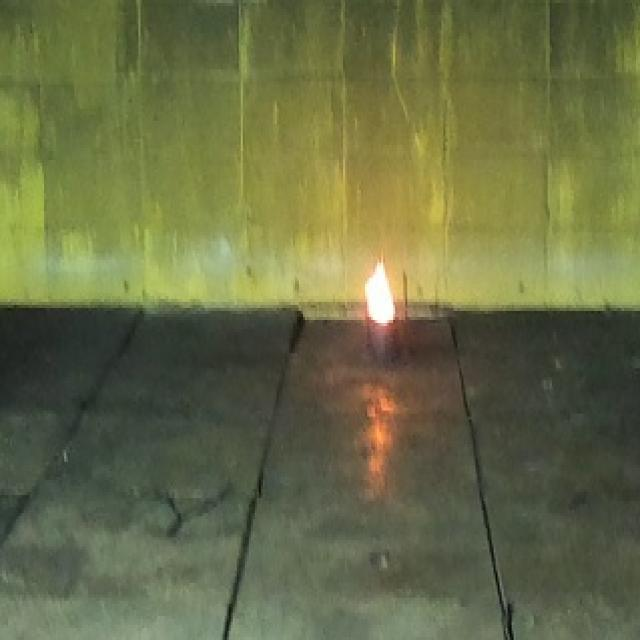Fire: (364, 250, 396, 326)
